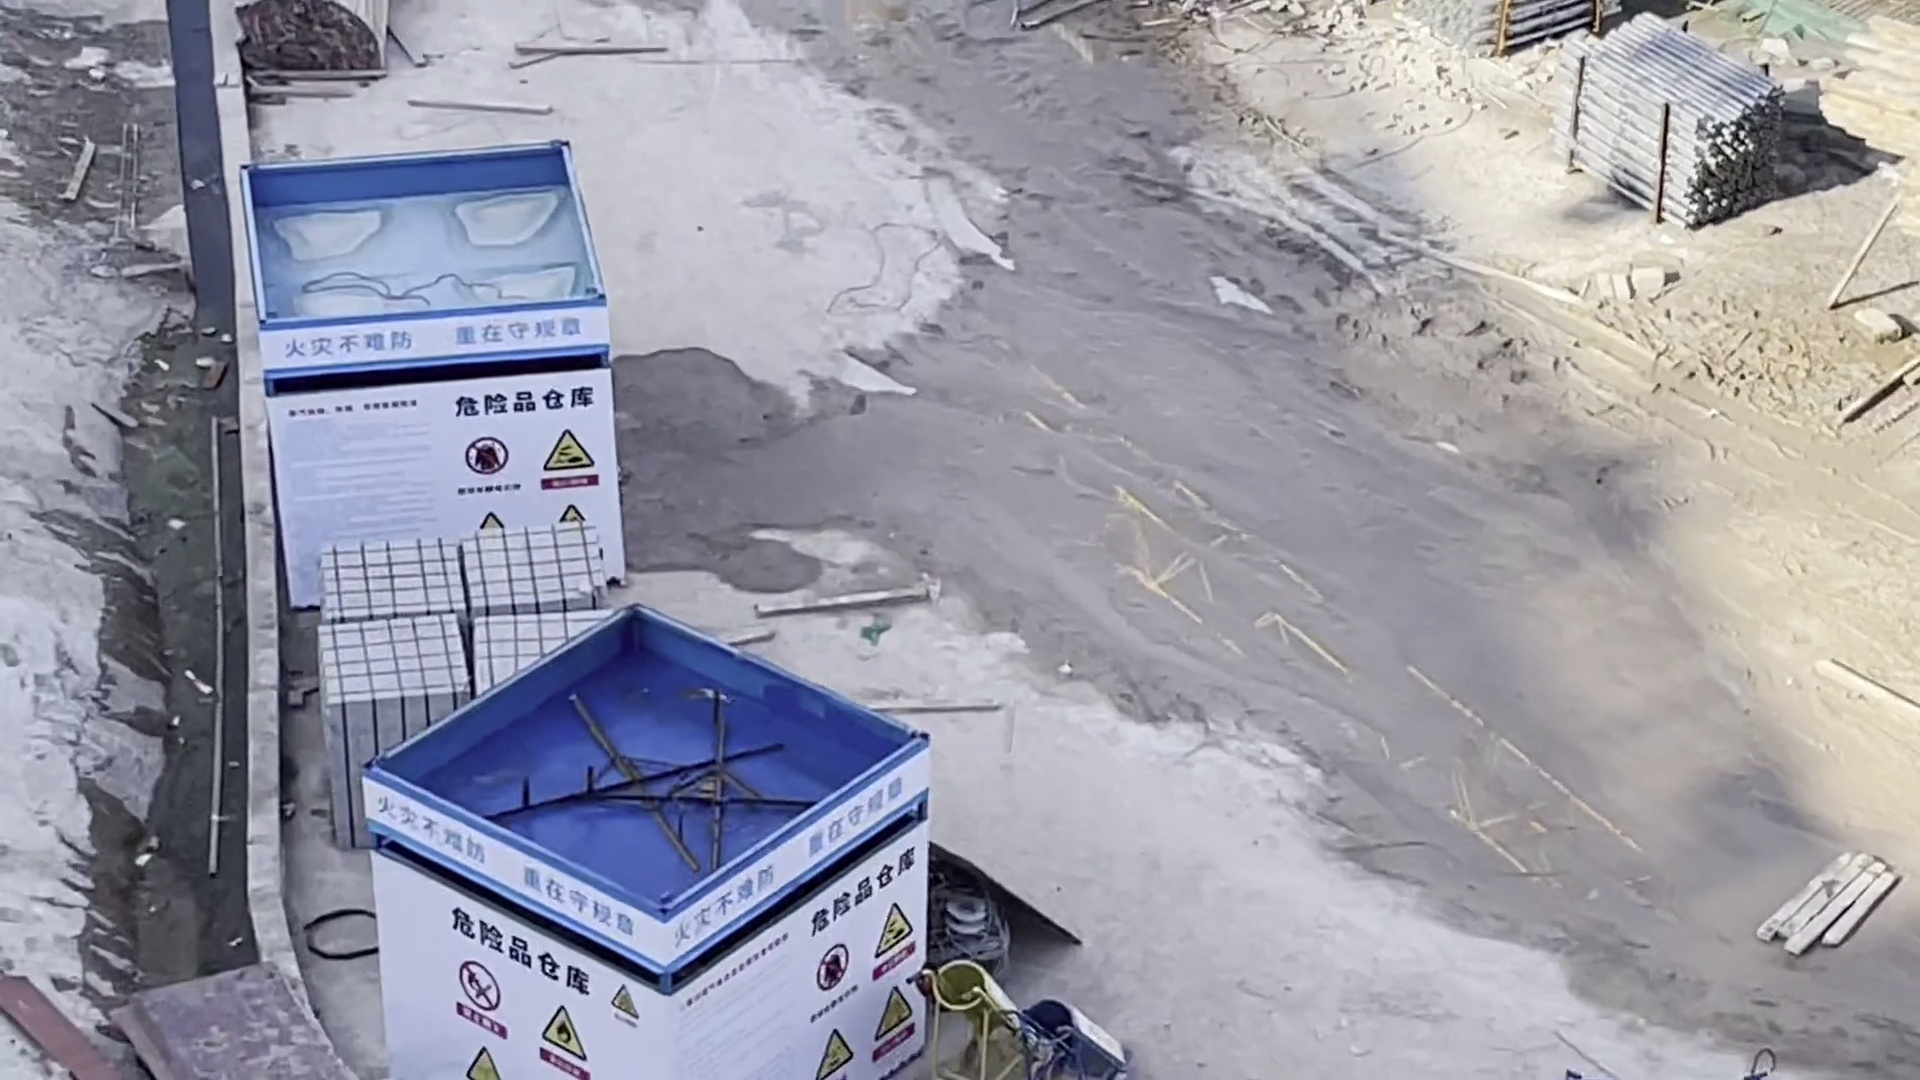board: (105, 975, 382, 1080)
brick: (315, 531, 593, 836)
scaffold: (1534, 18, 1808, 225)
slogan: (355, 760, 657, 963), (266, 291, 603, 355), (666, 798, 940, 866)
